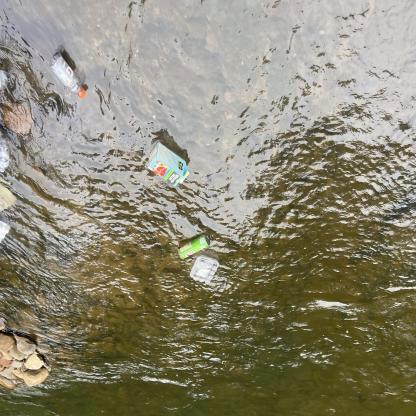Metal: (175, 230, 216, 259)
Plastic: (48, 47, 90, 102), (187, 251, 221, 289), (0, 136, 11, 174), (0, 213, 12, 243)
